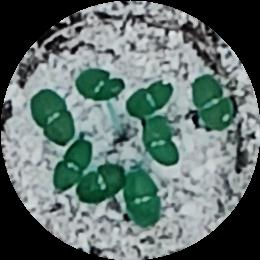Basil: (190, 73, 238, 130), (31, 90, 73, 141), (80, 160, 124, 208), (53, 138, 93, 189), (143, 117, 181, 166), (126, 79, 171, 120), (129, 173, 163, 224), (76, 68, 124, 100)
